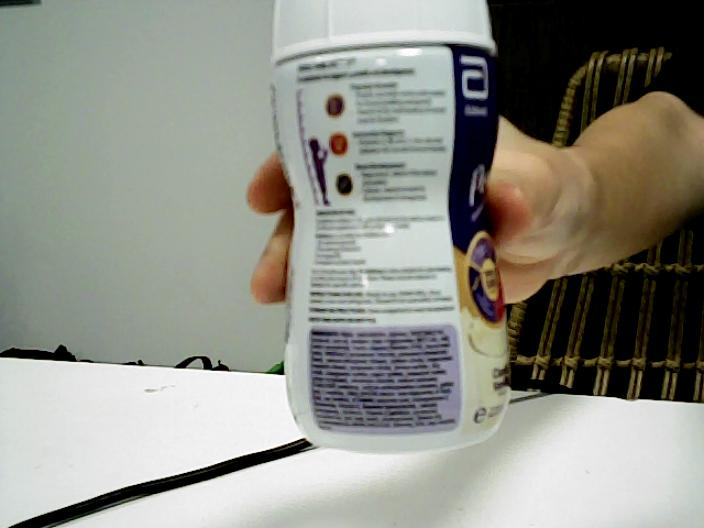Babyfood_200-299g_Halal_NonHealthy: (286, 1, 510, 448)
